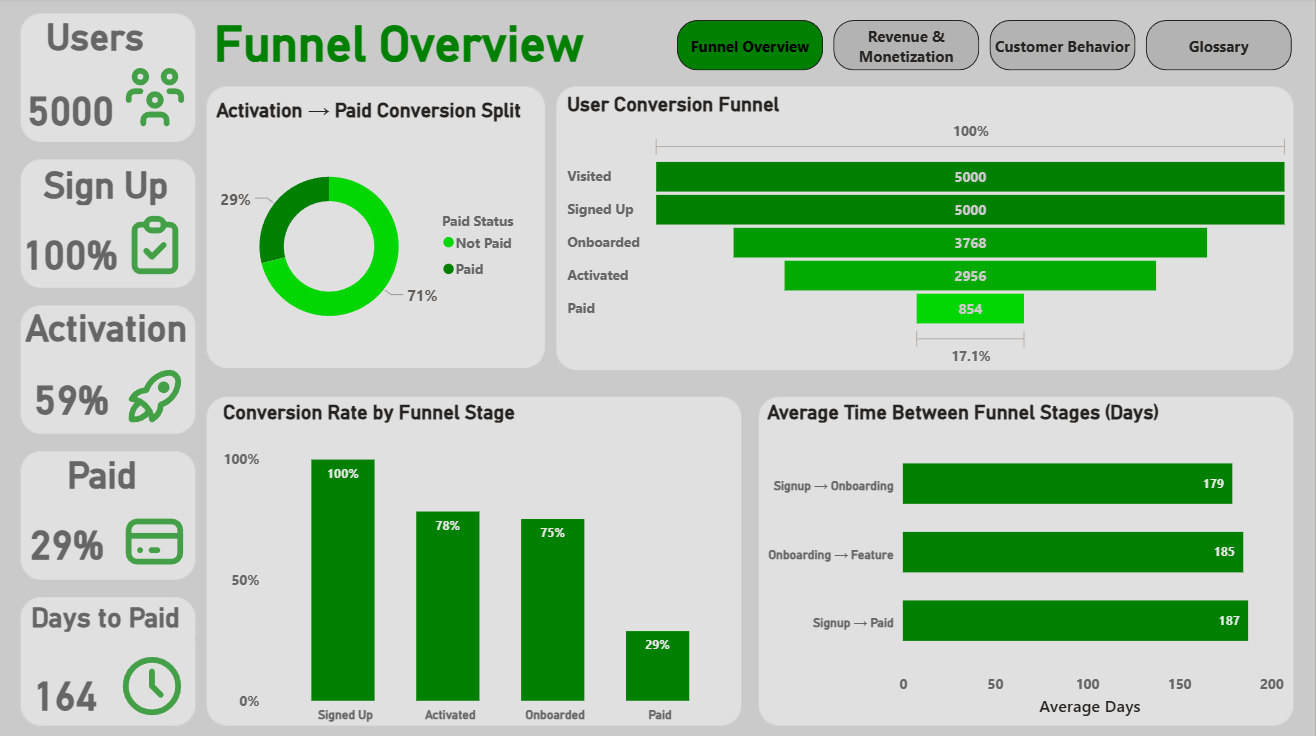

What the dashboard file says about the page in this screenshot:
{"tool":"powerbi","page":{"name":"Funnel Overview","canvas":[1280,720],"ordinal":0},"visuals":[{"type":"card","title":"Users","fields":{"Values":["_Measures.Total Users"]},"box":[15.6,81.7,107,49.6],"z":0},{"type":"card","title":"Signup","fields":{"Values":["_Measures.Visit → Signup %"]},"box":[13.6,219.8,110.9,53.5],"z":1000},{"type":"card","title":"Activation","fields":{"Values":["_Measures.Activation Rate"]},"box":[22.4,354,95.3,66.1],"z":2000},{"type":"card","title":"Paid","fields":{"Values":["_Measures.Activation → Paid %"]},"box":[20.4,497,91.4,63.2],"z":3000},{"type":"card","title":"Days to Paid","fields":{"Values":["_Measures.Median Days Signup → Paid"]},"box":[13.6,649.7,101.2,50.6],"z":4000},{"type":"image","box":[118,58.5,68.2,75.8],"z":5000},{"type":"image","box":[118,203.6,68.2,74.7],"z":6000},{"type":"image","box":[118,349.8,68.2,74.7],"z":7000},{"type":"image","box":[118,491.6,67.1,74.7],"z":8000},{"type":"image","box":[114.8,631.2,68.1,75.9],"z":9000},{"type":"funnel","title":"User Conversion Funnel","fields":{"Category":["Funnel Stages.Stage"],"Y":["Funnel Stages.Funnel Users"]},"box":[547.4,91.1,712.7,271.1],"z":10000},{"type":"clusteredColumnChart","title":"Conversion Rate by Funnel Stage","fields":{"Category":["Funnel Stages.Stage"],"Y":["_Measures.Stage Conversion %"]},"box":[213.3,390.9,509,320.5],"z":11000},{"type":"clusteredBarChart","title":"Average Time Between Funnel Stages (Days)","fields":{"Category":["Funnel Time Axis.Stage"],"Y":["_Measures.Avg Funnel Time (Selected Stage)"]},"box":[742,391.4,518.1,312.9],"z":12000},{"type":"donutChart","title":"Activation → Paid Conversion Split","fields":{"Category":["user_funnel.Paid Status"],"Y":["_Measures.Total Users"]},"box":[205.8,96.4,321.6,268.6],"z":13000},{"type":"textbox","title":"Funnel Overview","box":[204.3,16.5,390,65.2],"z":14000},{"type":"textbox","title":"Users","box":[41.2,16.2,133.2,43.3],"z":15000},{"type":"textbox","title":"Sign Up","box":[37.9,160.3,133.2,43.3],"z":16000},{"type":"textbox","title":"Activation","box":[20.6,300,175.4,49.8],"z":17000},{"type":"textbox","title":"Paid","box":[61.7,442.9,81.2,44.4],"z":18000},{"type":"textbox","title":"Days to Paid","box":[26,586.9,177.6,43.3],"z":19000},{"type":"pageNavigator","box":[659.5,21.7,600,49.8],"z":20000}]}

Visuals, with their boxes in screenshot pixels (x1, y1, x2, y2), scaled from the page's 1280x720 canvas onto the 1316x736 screenshot:
"Users" card: (16, 84, 126, 134)
"Signup" card: (14, 225, 128, 279)
"Activation" card: (23, 362, 121, 429)
"Paid" card: (21, 508, 115, 573)
"Days to Paid" card: (14, 664, 118, 716)
image: (121, 60, 191, 137)
image: (121, 208, 191, 284)
image: (121, 358, 191, 434)
image: (121, 503, 190, 579)
image: (118, 645, 188, 723)
"User Conversion Funnel" funnel: (563, 93, 1296, 370)
"Conversion Rate by Funnel Stage" clusteredColumnChart: (219, 400, 743, 727)
"Average Time Between Funnel Stages (Days)" clusteredBarChart: (763, 400, 1296, 720)
"Activation → Paid Conversion Split" donutChart: (212, 99, 542, 373)
"Funnel Overview" textbox: (210, 17, 611, 84)
"Users" textbox: (42, 17, 179, 61)
"Sign Up" textbox: (39, 164, 176, 208)
"Activation" textbox: (21, 307, 202, 358)
"Paid" textbox: (63, 453, 147, 498)
"Days to Paid" textbox: (27, 600, 209, 644)
pageNavigator: (678, 22, 1295, 73)
